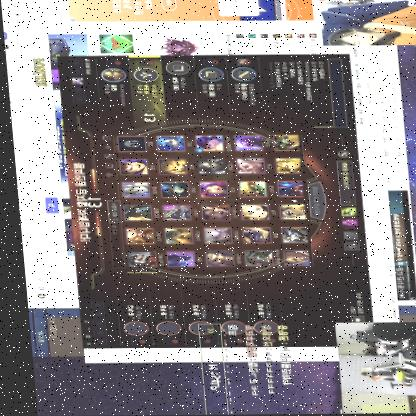streamer: (322, 1, 416, 46)
